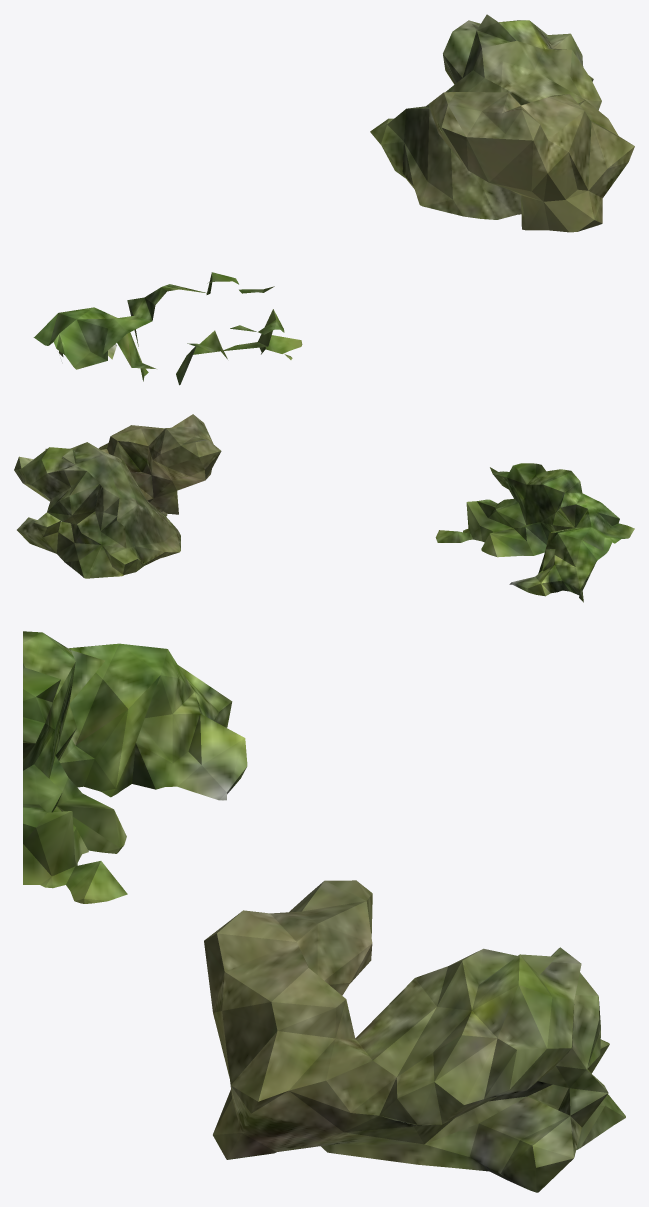
The picture shows the model from 3 angles, top to bottom: view 1: azimuth 30°, elevation 25°; view 2: azimuth 150°, elevation 25°; view 3: azimuth 270°, elevation 25°; orthographic projection. The views are drawn at different scales.
Bounding box in the file's own units: 23.34 × 4.49 × 12.21.
1 material, 1 textured.
